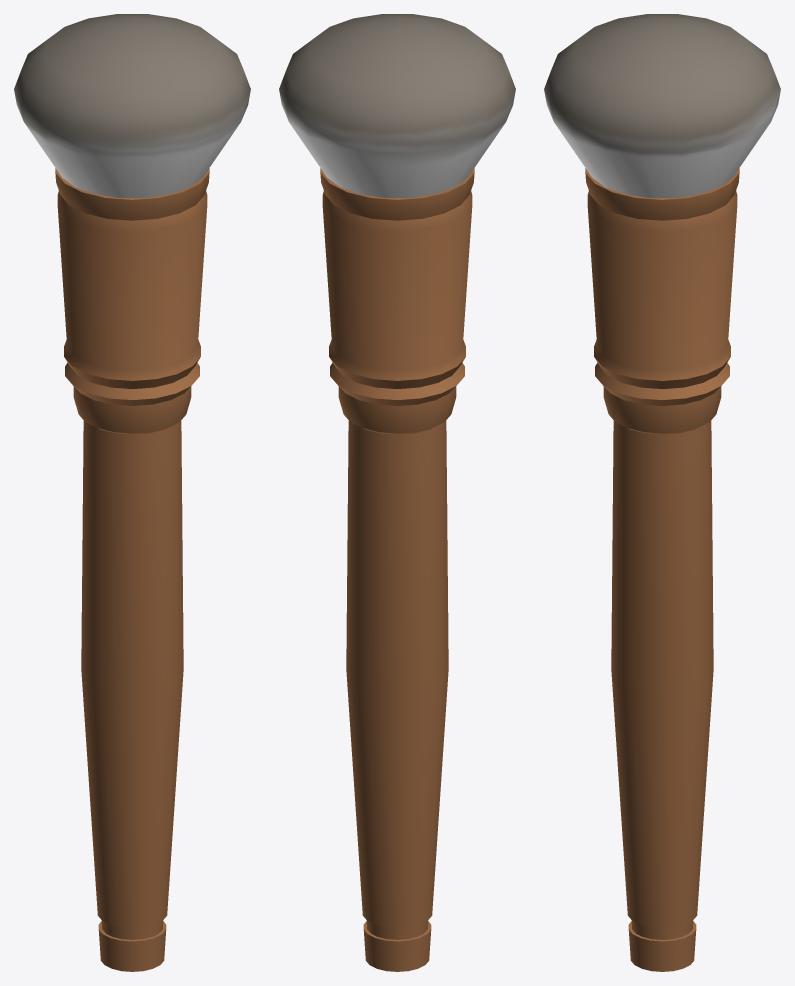
3 renders of one model, left to right at view 1: azimuth 30°, elevation 25°; view 2: azimuth 150°, elevation 25°; view 3: azimuth 270°, elevation 25°, orthographic.
Visible parts, largest first — view 1: 鍒峰ご; view 2: 鍒峰ご; view 3: 鍒峰ご.
Boxes of the visible parts, x1,y1,x2,y2 form: 鍒峰ご: (14, 14, 250, 971); 鍒峰ご: (279, 14, 515, 971); 鍒峰ご: (544, 14, 780, 971).
Bounding box in the file's own units: 5.34 × 23.47 × 5.43.
